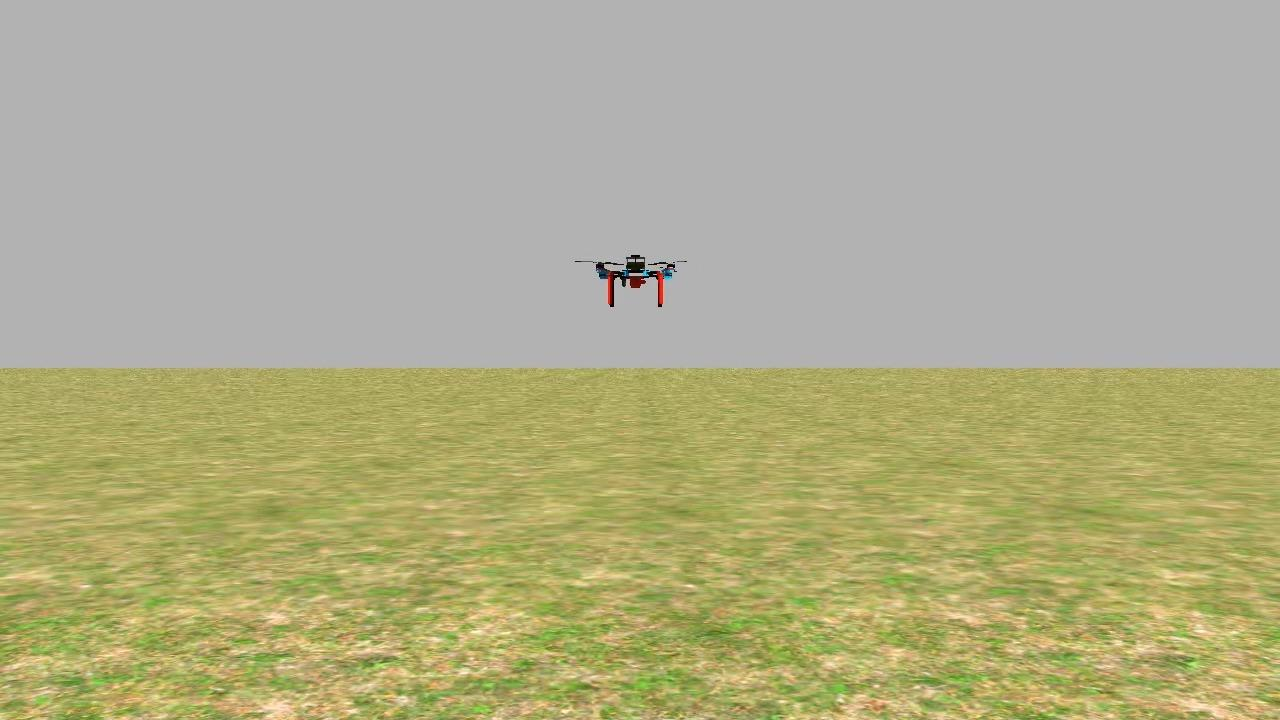UAV: (588, 247, 680, 316)
